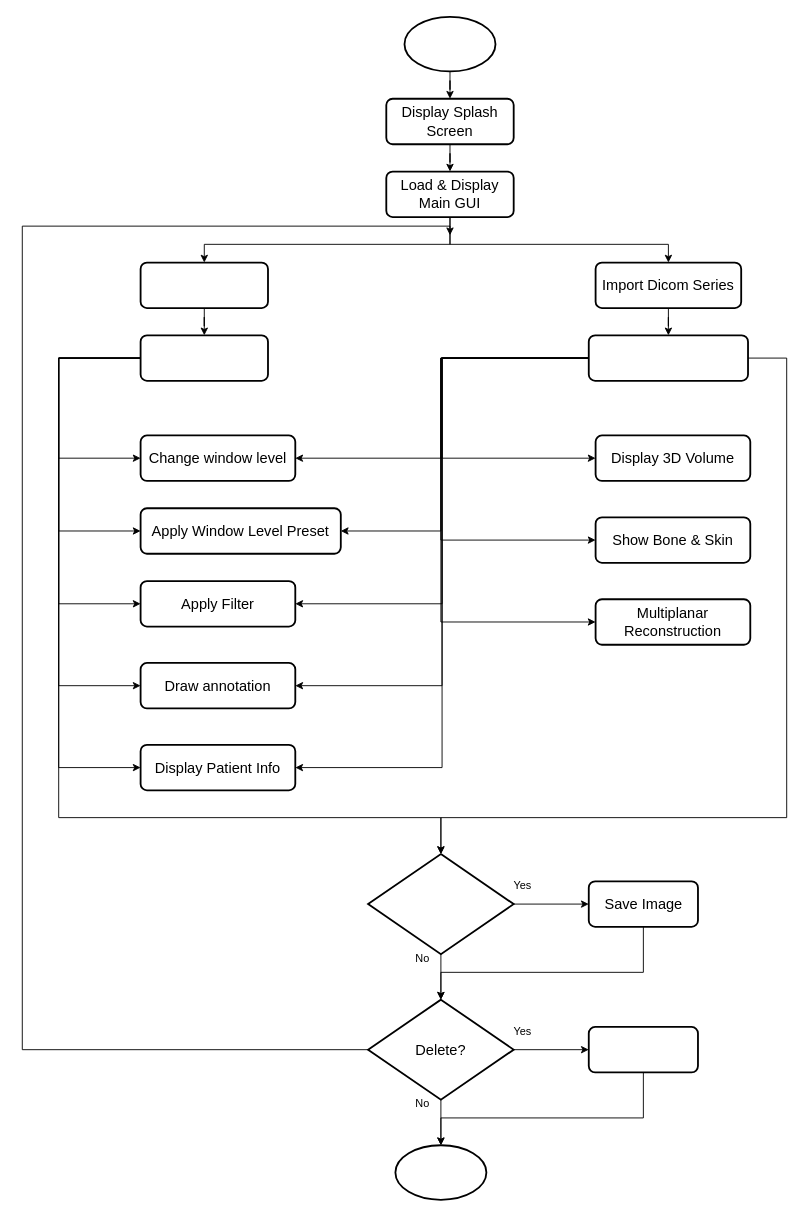
Some shapes in this 810 by 1216 pixel diagram are drawn without their labels. The centre of each missing label's shape, as x and y in pixels:
"Delete" belongs at point (642, 1049).
"END" belongs at point (440, 1172).
"Import Dicom File" belongs at point (203, 284).
"Load and Display Dicom Image" belongs at point (203, 357).
"Load and Display Dicom Series Image" belongs at point (667, 357).
"Save Image?" belongs at point (440, 904).
"START" belongs at point (449, 43).
